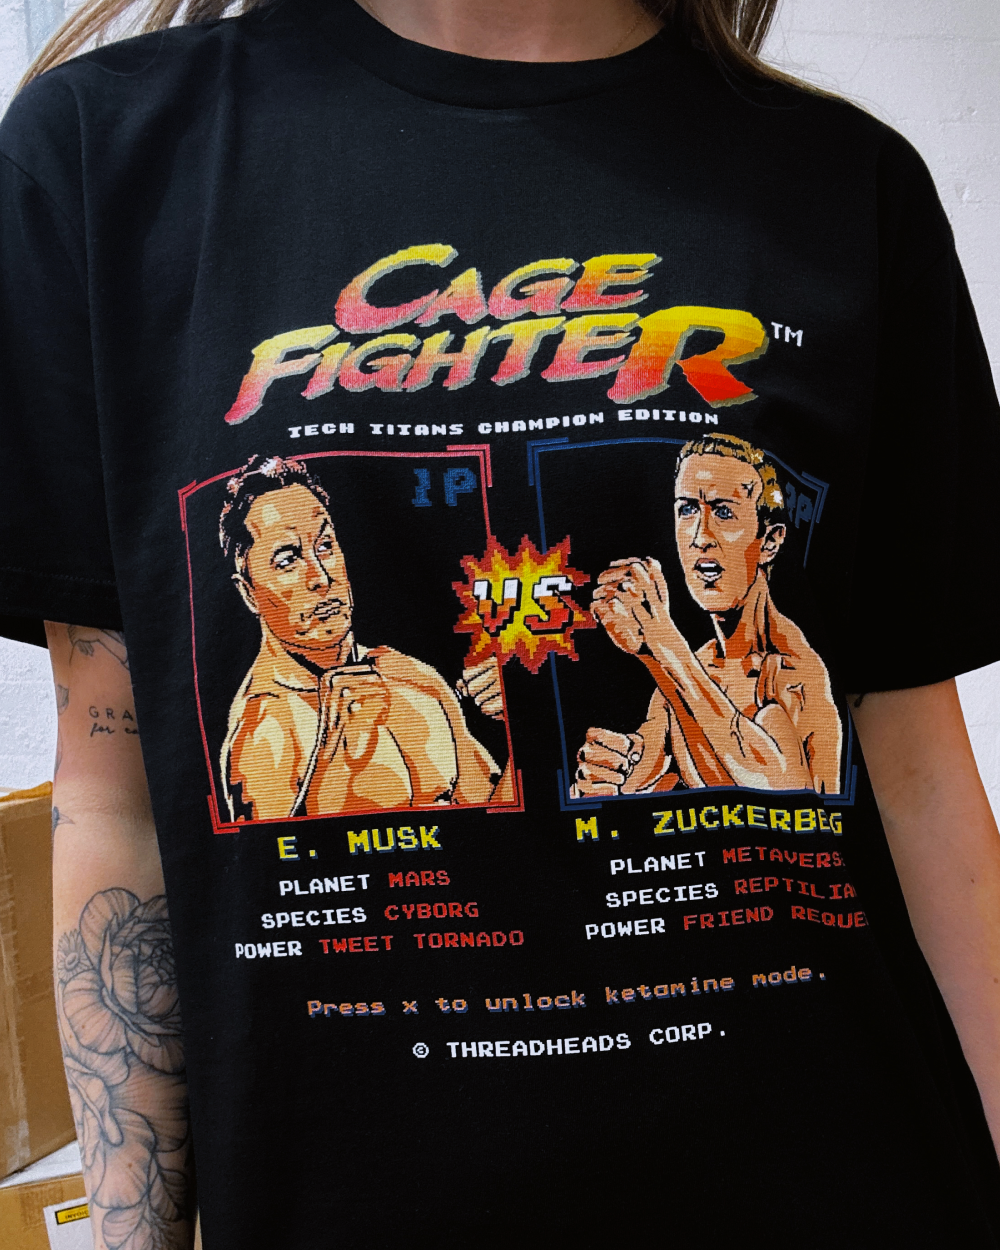design: (170, 238, 876, 1068)
